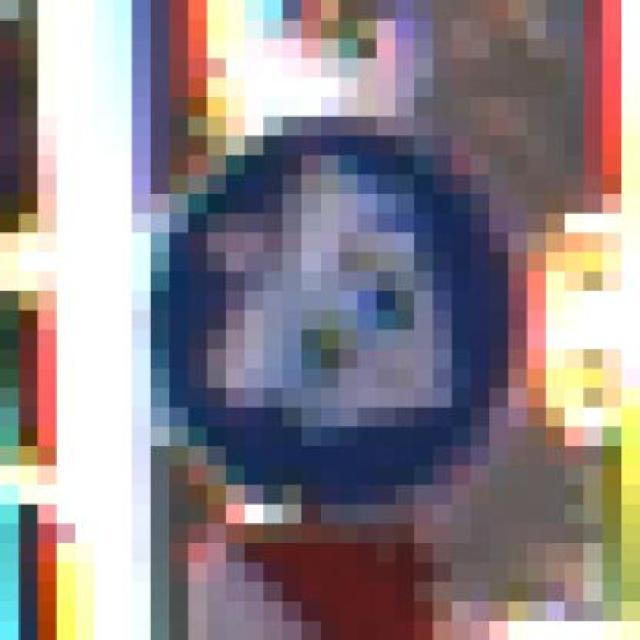Keep-Right: (113, 78, 527, 524)
